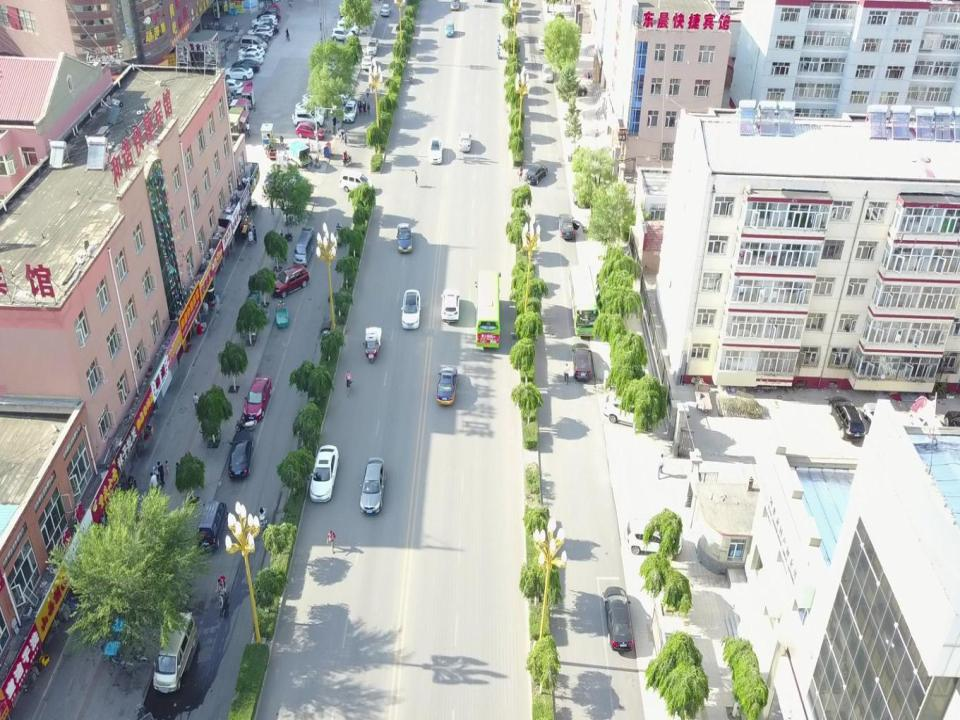bus: (474, 269, 502, 348), (568, 265, 598, 337)
car: (626, 518, 684, 561), (601, 584, 635, 652), (602, 393, 652, 431), (309, 444, 340, 503), (828, 395, 866, 442), (359, 456, 386, 516), (907, 405, 946, 442), (270, 262, 310, 298), (243, 373, 272, 422), (228, 431, 254, 479), (435, 365, 459, 406), (570, 343, 593, 381), (862, 401, 889, 432), (401, 289, 421, 330), (440, 287, 462, 323), (941, 408, 960, 444), (294, 120, 326, 140), (558, 213, 581, 239), (292, 109, 325, 127), (524, 162, 548, 185), (396, 223, 413, 254), (294, 102, 327, 117), (427, 137, 443, 165), (222, 67, 254, 81), (301, 92, 327, 109), (230, 60, 261, 74), (246, 26, 273, 42), (219, 78, 243, 95), (336, 19, 359, 36), (236, 44, 266, 57), (330, 26, 354, 42), (253, 22, 279, 36), (255, 8, 281, 22), (342, 100, 358, 122), (236, 53, 264, 65), (250, 15, 278, 27), (458, 130, 472, 151), (567, 83, 588, 97), (366, 36, 379, 56), (542, 62, 554, 83), (261, 3, 280, 15), (361, 54, 375, 70), (537, 35, 549, 52), (380, 2, 391, 18), (444, 20, 455, 36), (449, 0, 461, 11)
truck: (284, 140, 312, 168)
van: (152, 610, 198, 694), (196, 500, 228, 550), (292, 225, 316, 267), (339, 168, 372, 194), (240, 34, 268, 54)
